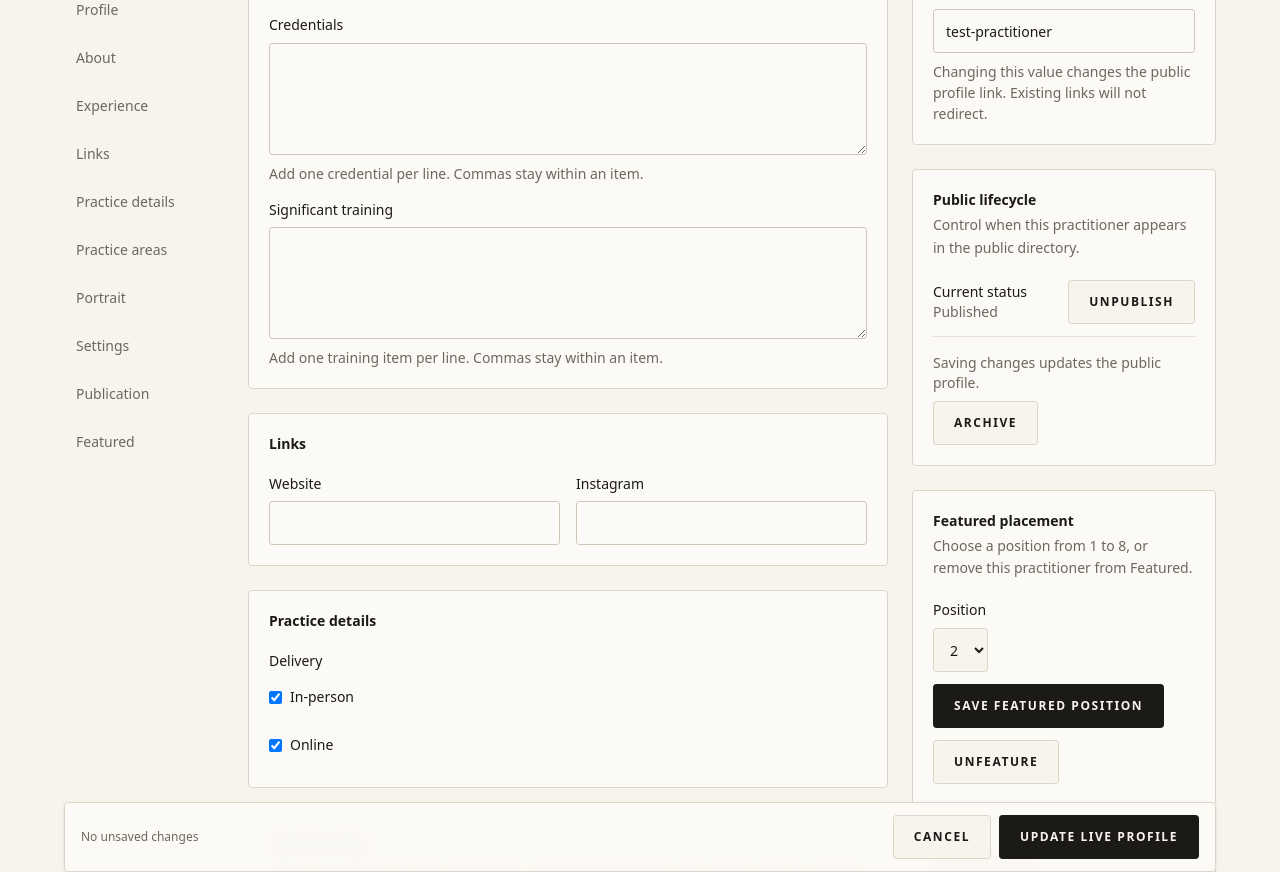
practitioner and taxonomy CMS controls › keeps the practitioner editor usable after archiving
(page scrolled)
Click the button "Archive" at (986,422), box [933,400,1038,444]
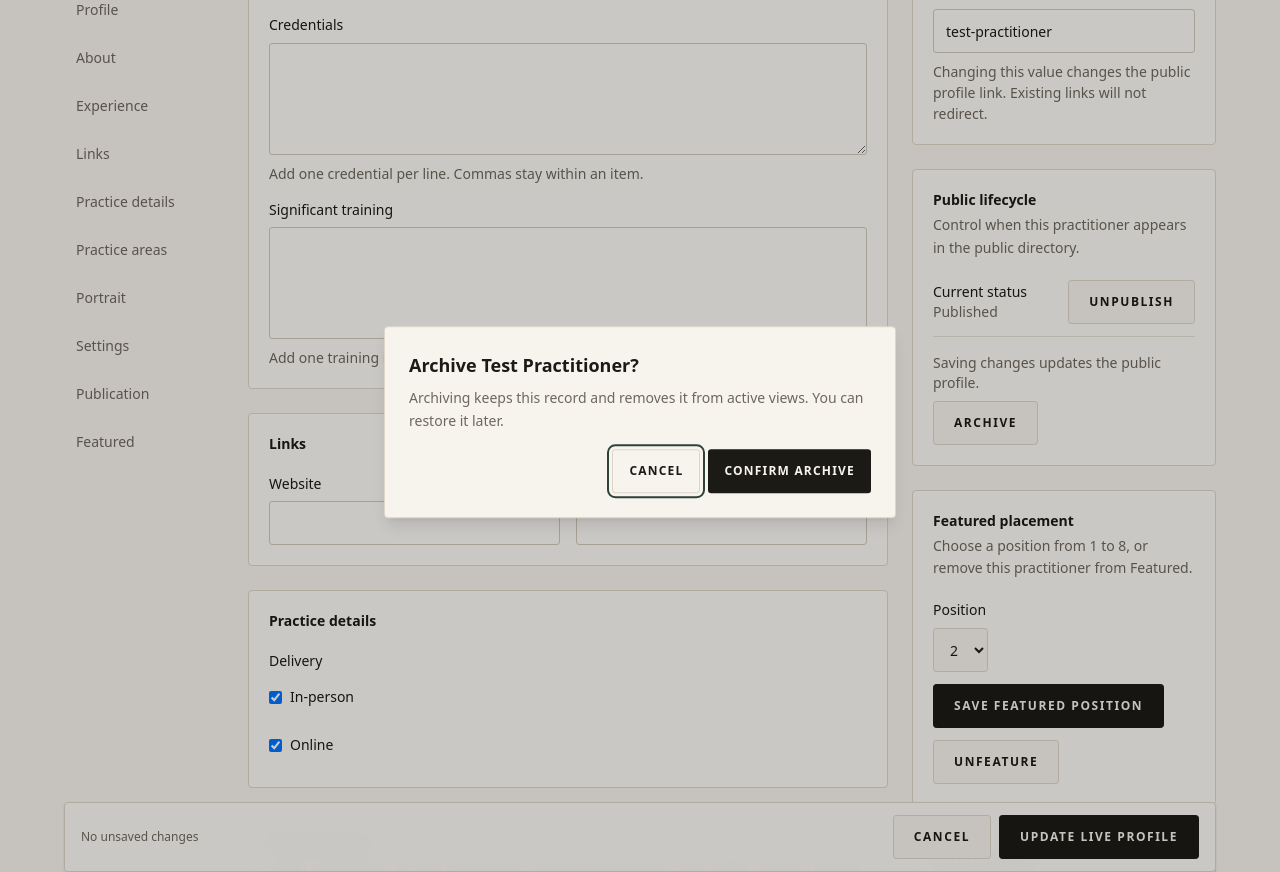
Click the button "Confirm archive" at (790,471), box [708,449,871,493]
(page scrolled)
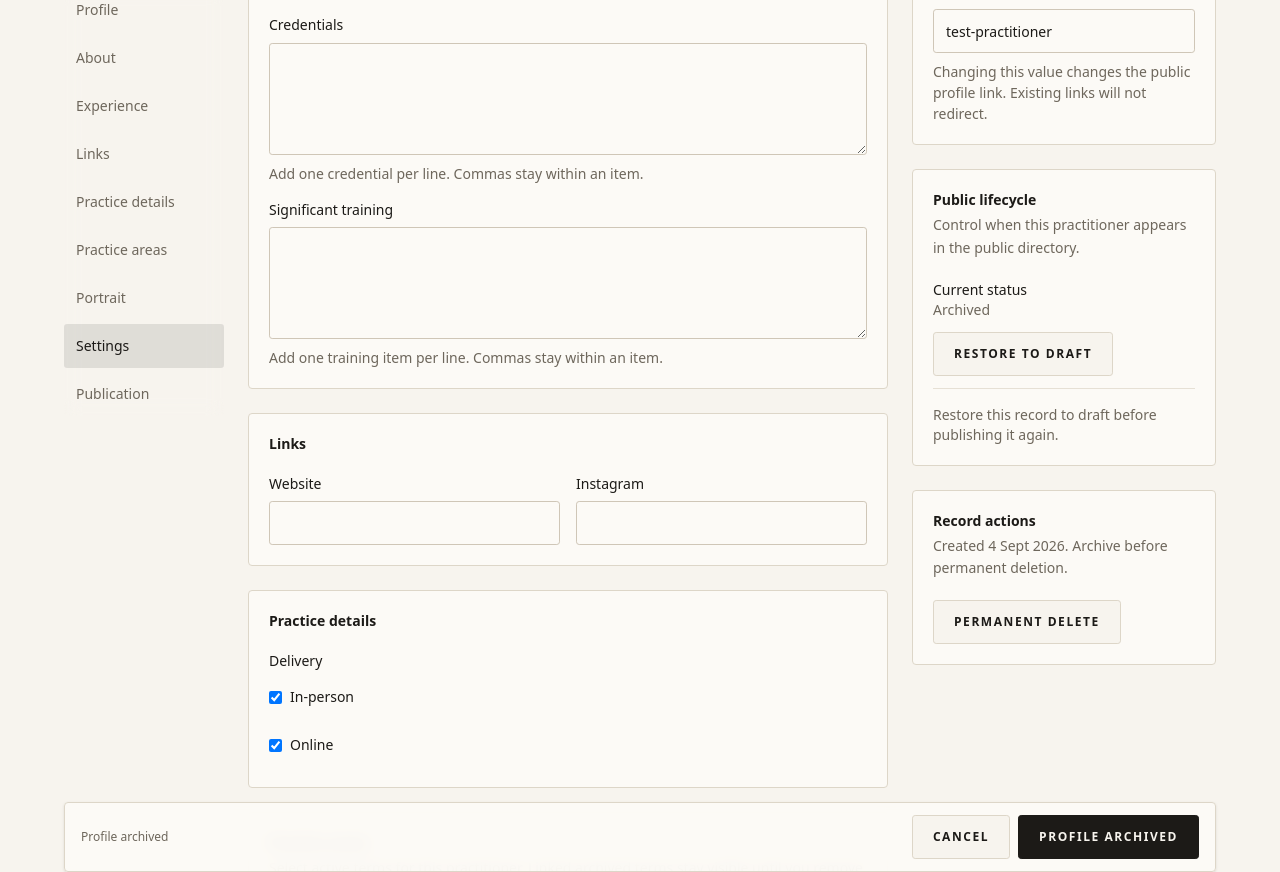
Expected: the button "Profile archived" is shown, [1018,815,1199,859]
